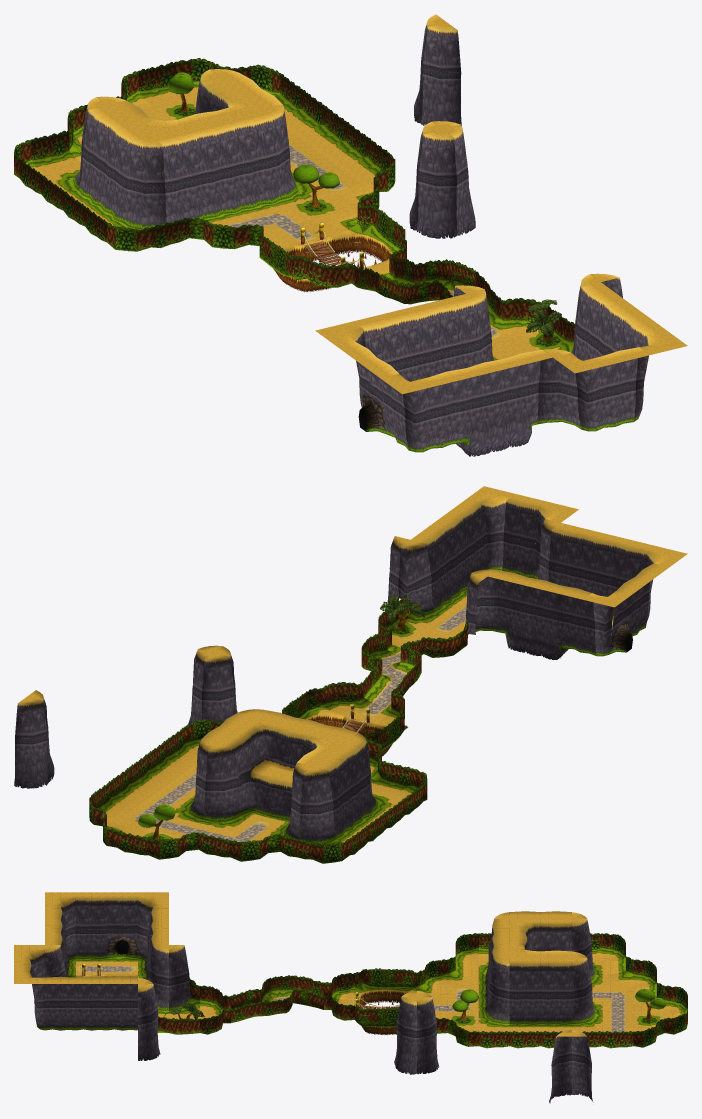
3 views of the same model, one above another, from view 1: azimuth 30°, elevation 25°; view 2: azimuth 150°, elevation 25°; view 3: azimuth 270°, elevation 25° (orthographic). The views are drawn at different scales.
Parts seen in each view (by area): view 1: T5L2M002_69, T5L2M002_47, T5L2M002_46, T5L2M002_34, T5L2M002_45, T5L2M002_111, T5L2M002_44, T5L2M002_112, T5L2M002_110, T5L2M002_90, T5L2M002_117, T5L2M002_89 (+47 smaller); view 2: T5L2M002_25, T5L2M002_21, T5L2M002_117, T5L2M002_89, T5L2M002_93, T5L2M002_18, T5L2M002_90, T5L2M002_111, T5L2M002_88, T5L2M002_112, T5L2M002_64, T5L2M002_30 (+48 smaller); view 3: T5L2M002_31, T5L2M002_40, T5L2M002_95, T5L2M002_102, T5L2M002_101, T5L2M002_108, T5L2M002_115, T5L2M002_22, T5L2M002_48, T5L2M002_84, T5L2M002_70, T5L2M002_94 (+54 smaller).
Part boxes in pixels (left/top/right/bottom): T5L2M002_69: left=416, top=129, right=457, bottom=238; T5L2M002_47: left=227, top=109, right=285, bottom=213; T5L2M002_46: left=189, top=118, right=247, bottom=222; T5L2M002_34: left=420, top=22, right=461, bottom=125; T5L2M002_45: left=151, top=127, right=209, bottom=223; T5L2M002_111: left=460, top=359, right=514, bottom=456; T5L2M002_44: left=113, top=137, right=166, bottom=230; T5L2M002_112: left=500, top=349, right=552, bottom=450; T5L2M002_110: left=423, top=368, right=476, bottom=451; T5L2M002_90: left=428, top=294, right=480, bottom=372; T5L2M002_117: left=596, top=347, right=649, bottom=430; T5L2M002_89: left=391, top=303, right=442, bottom=381; T5L2M002_25: left=14, top=697, right=48, bottom=788; T5L2M002_21: left=199, top=743, right=248, bottom=830; T5L2M002_117: left=502, top=494, right=546, bottom=578; T5L2M002_89: left=520, top=577, right=565, bottom=659; T5L2M002_93: left=398, top=540, right=441, bottom=627; T5L2M002_18: left=299, top=766, right=343, bottom=844; T5L2M002_90: left=488, top=570, right=531, bottom=654; T5L2M002_111: left=580, top=530, right=623, bottom=596; T5L2M002_88: left=551, top=585, right=596, bottom=655; T5L2M002_112: left=548, top=523, right=592, bottom=589; T5L2M002_64: left=202, top=653, right=234, bottom=721; T5L2M002_30: left=218, top=730, right=267, bottom=817; T5L2M002_31: left=540, top=958, right=571, bottom=1027; T5L2M002_40: left=509, top=958, right=540, bottom=1027; T5L2M002_95: left=107, top=892, right=137, bottom=961; T5L2M002_102: left=76, top=892, right=106, bottom=961; T5L2M002_101: left=107, top=976, right=137, bottom=1030; T5L2M002_108: left=76, top=976, right=106, bottom=1030; T5L2M002_115: left=45, top=976, right=75, bottom=1030; T5L2M002_22: left=571, top=958, right=602, bottom=1027; T5L2M002_48: left=478, top=958, right=509, bottom=1027; T5L2M002_84: left=169, top=945, right=199, bottom=1013; T5L2M002_70: left=395, top=997, right=416, bottom=1074; T5L2M002_94: left=138, top=984, right=160, bottom=1060.
Bounding box in the file's own units: 44 × 9.69 × 87.
1 material, 1 textured.
